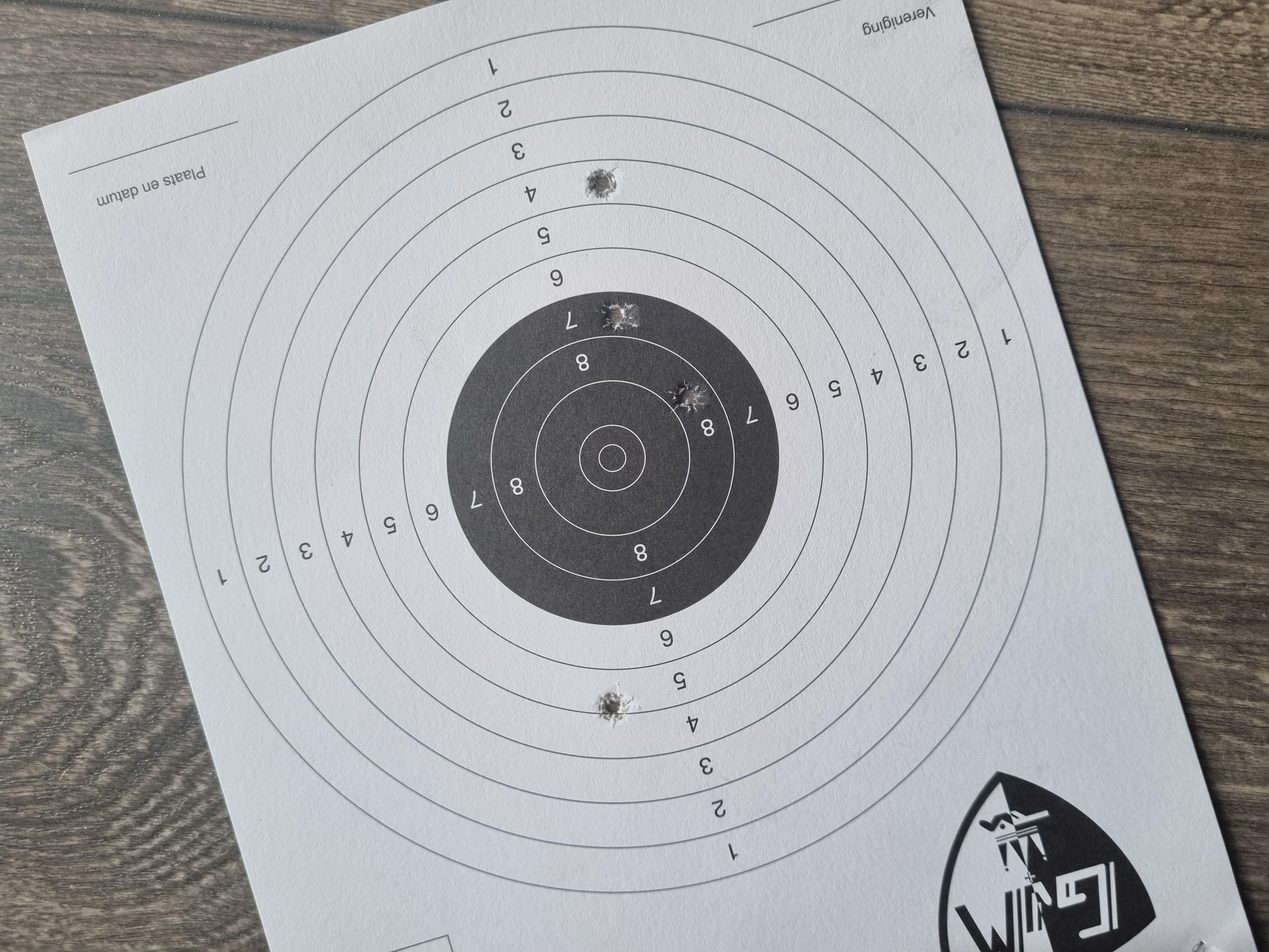hole: (301, 445, 352, 473), (716, 505, 767, 533), (1002, 439, 1052, 466), (820, 453, 867, 480)
